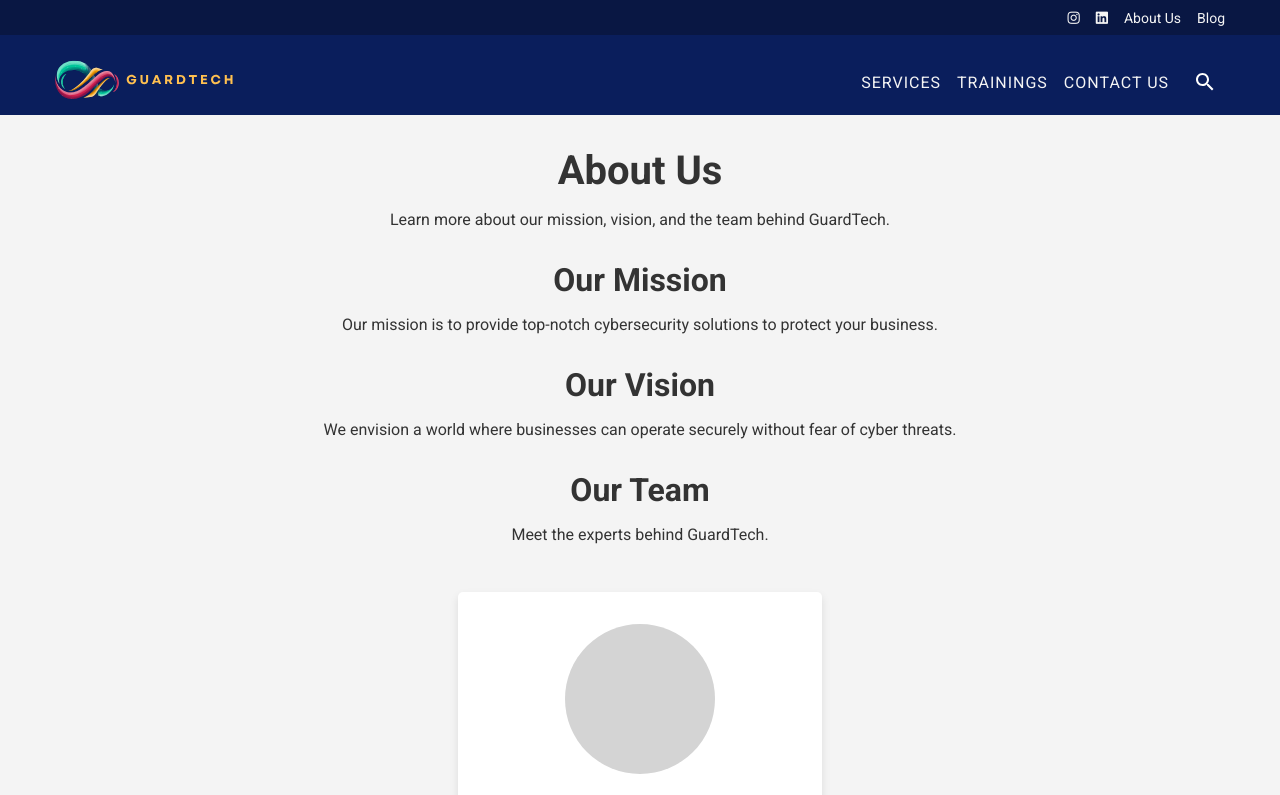
Scenario: navigates to contact us page
Click the text "Contact Us".
click(1116, 82)  # box [1064,72,1169,92]
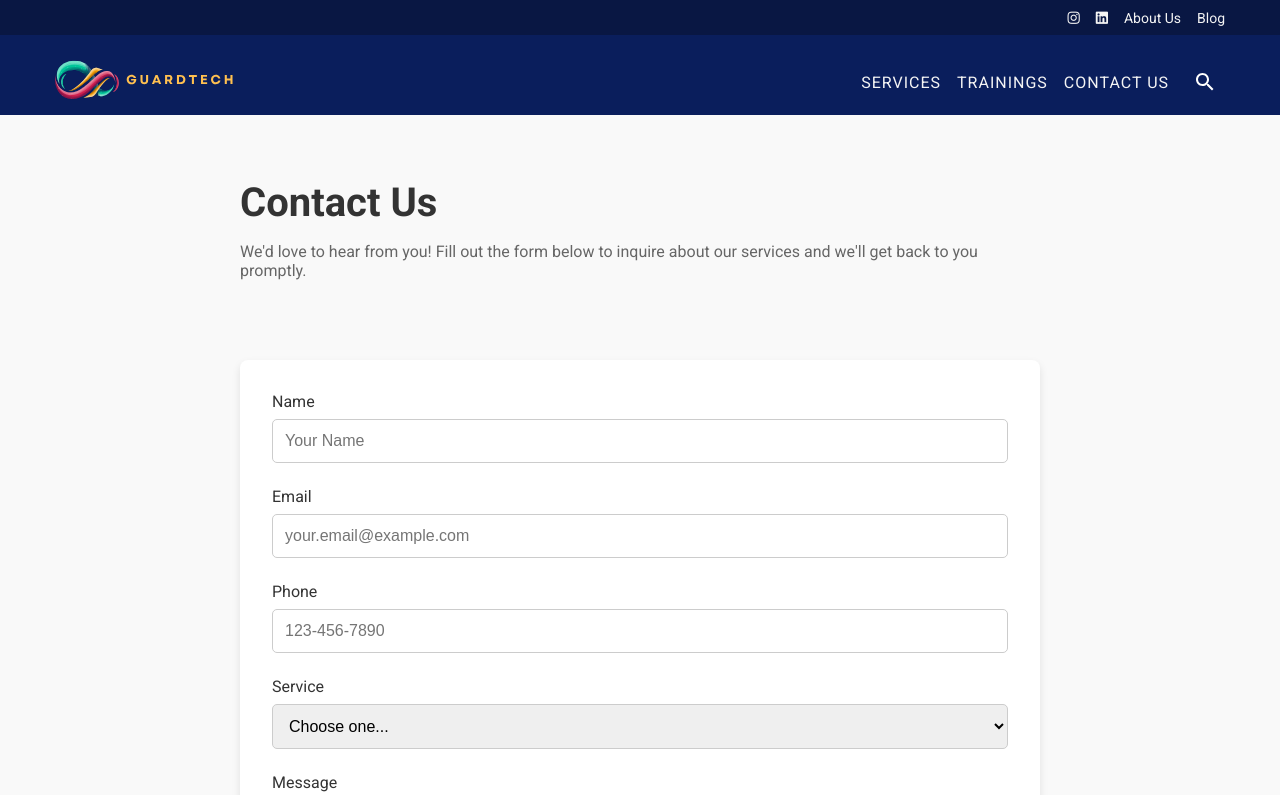
Result: the heading "Contact Us" is shown at [240,179,437,226]
